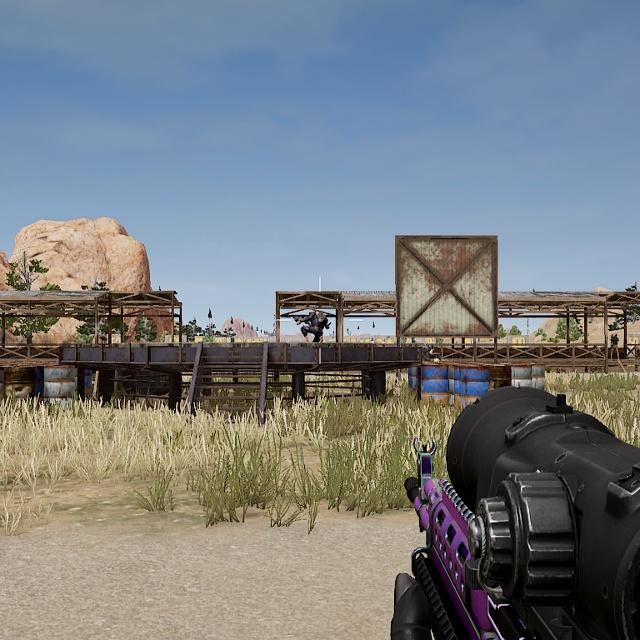people: (294, 308, 333, 344)
